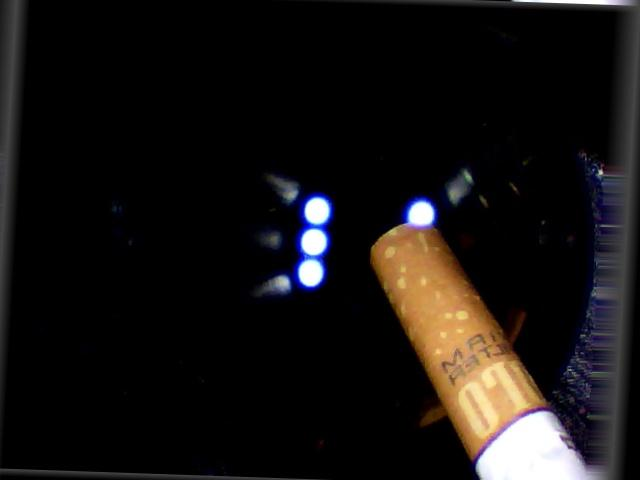megot: (349, 216, 600, 479)
